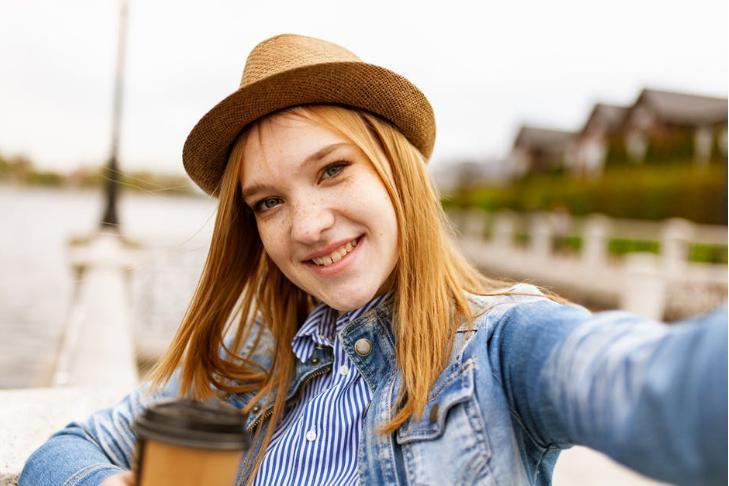face: (237, 107, 400, 310)
